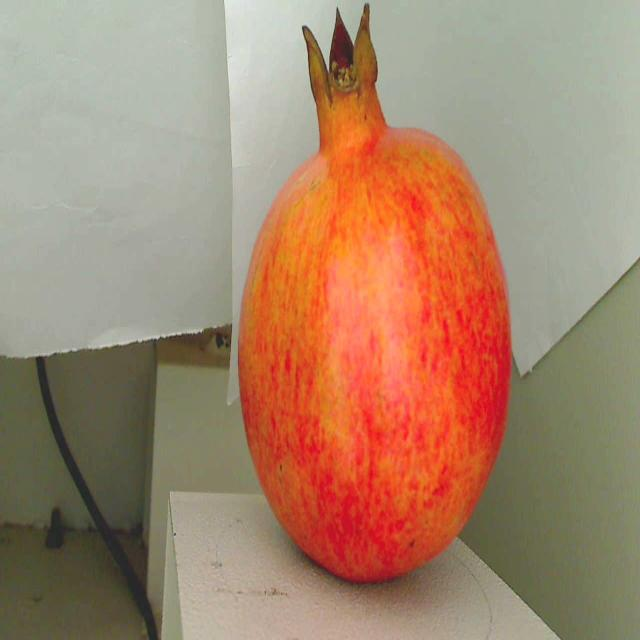pomegranate: (230, 20, 519, 596)
